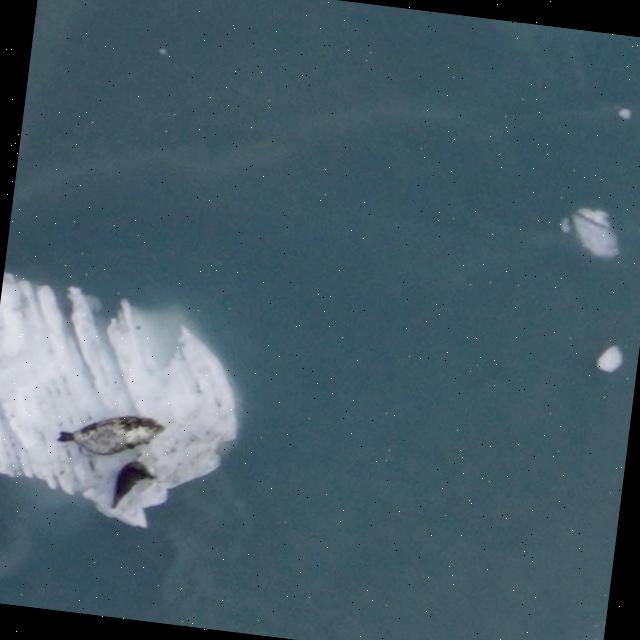seal: (58, 416, 164, 456), (110, 461, 156, 509)
